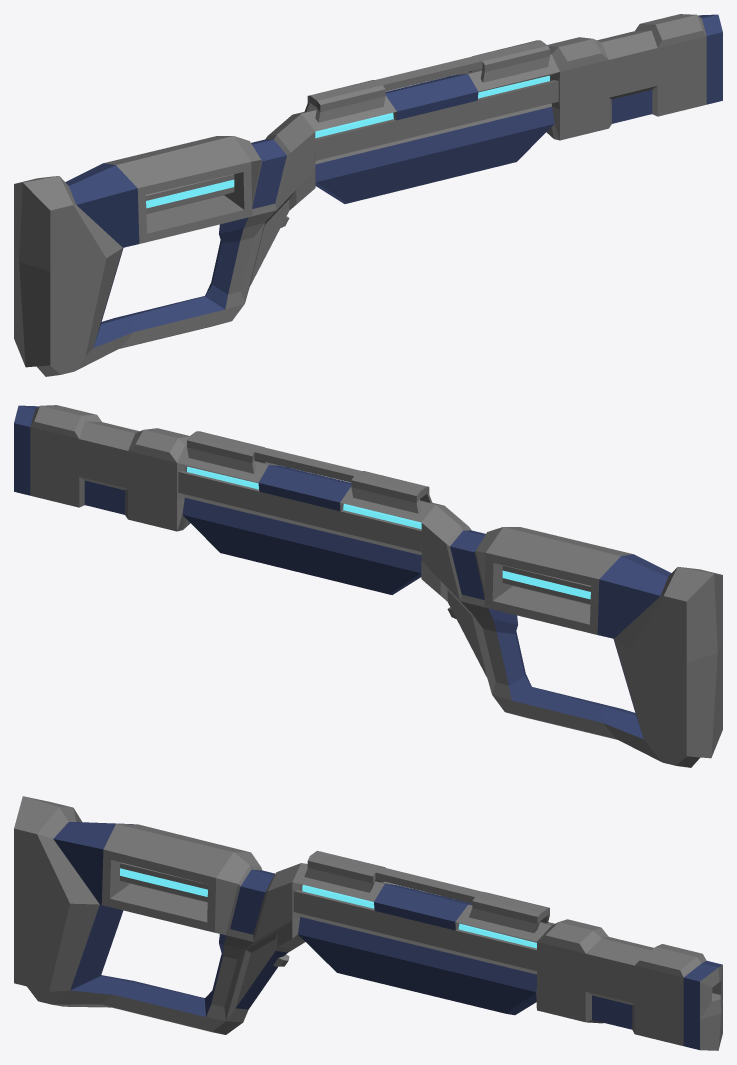
File: Sniper.glb
The picture shows the model from 3 angles, top to bottom: view 1: azimuth 30°, elevation 25°; view 2: azimuth 150°, elevation 25°; view 3: azimuth 330°, elevation 25°; orthographic projection.
Visible parts, largest first — view 1: Sniper; view 2: Sniper; view 3: Sniper.
Part boxes in pixels (x1=…): Sniper: x1=14, y1=14, x2=722, y2=376; Sniper: x1=14, y1=405, x2=722, y2=767; Sniper: x1=14, y1=796, x2=722, y2=1050.
Size of the model in its own units: 0.9718 by 0.2833 by 0.0902.
